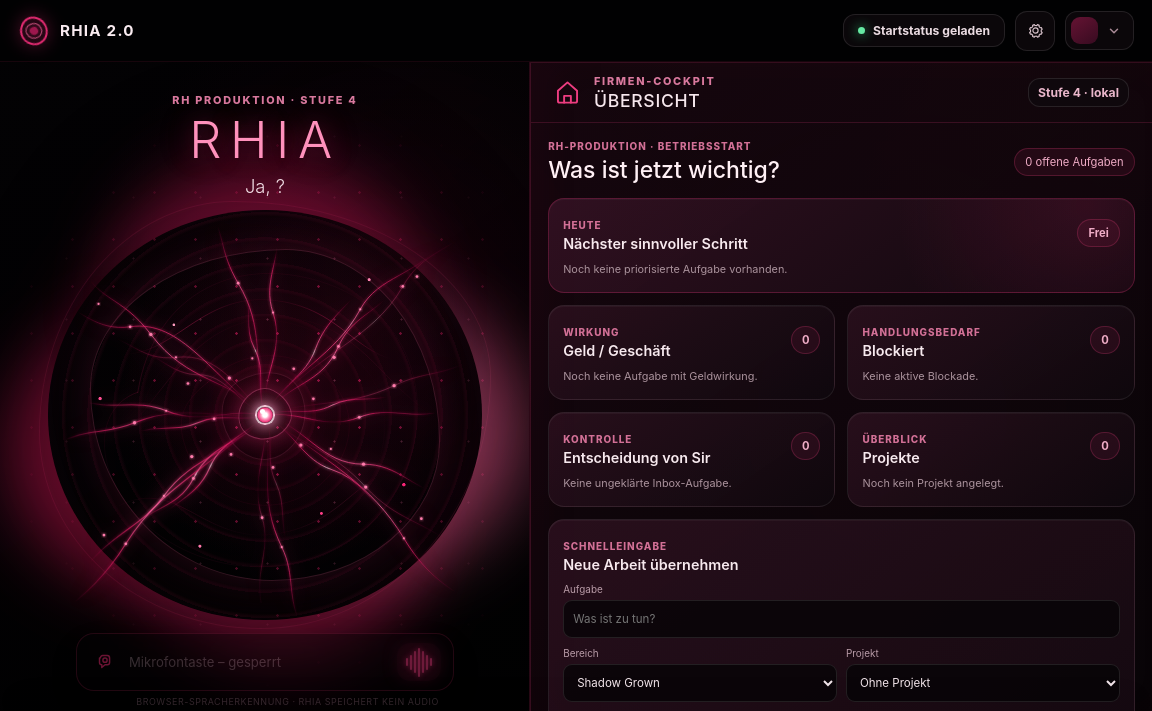
Test: RHIA stage 4 shell › takes over a confirmed quick task into the local company cockpit
The image size is (1152, 711).
Expected: the heading "Was ist jetzt wichtig?" is shown, [548,156,780,184]
Step 1. Type "Angebot vorbereiten" into the field labelled "Aufgabe" → (842, 619), box [563,600,1120,638]
(page scrolled)
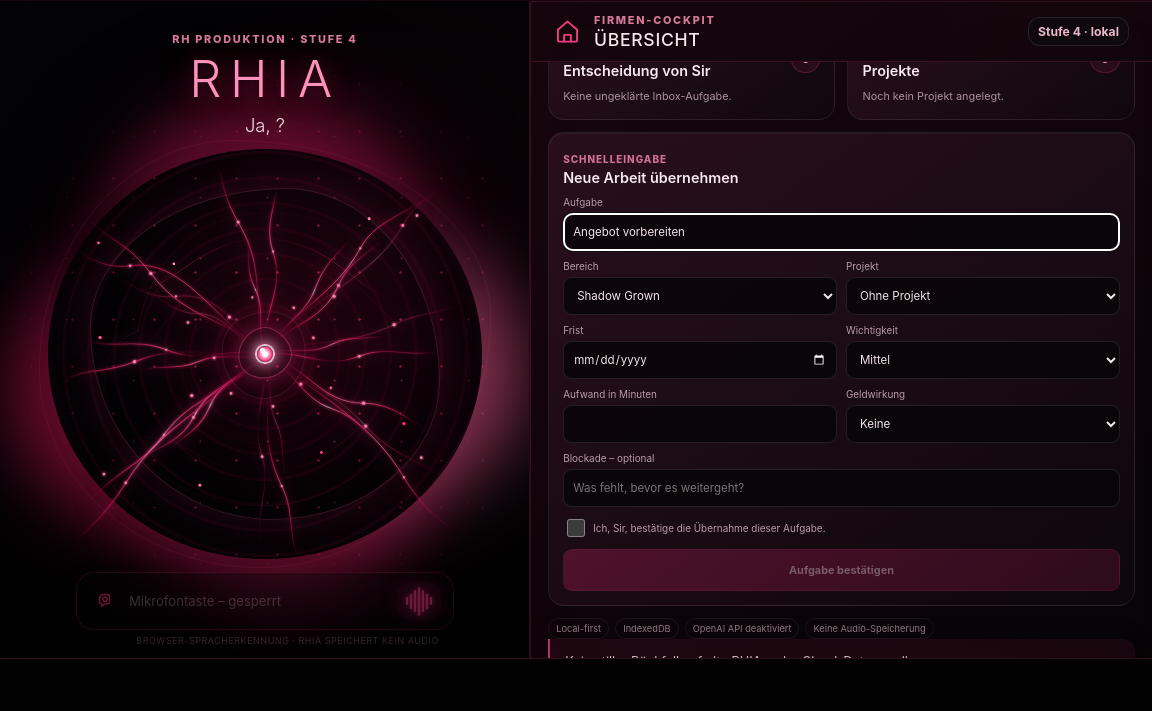
Step 2. Select "Hoch" in the dropdown labelled "Wichtigkeit" → (983, 360), box [846,341,1120,379]
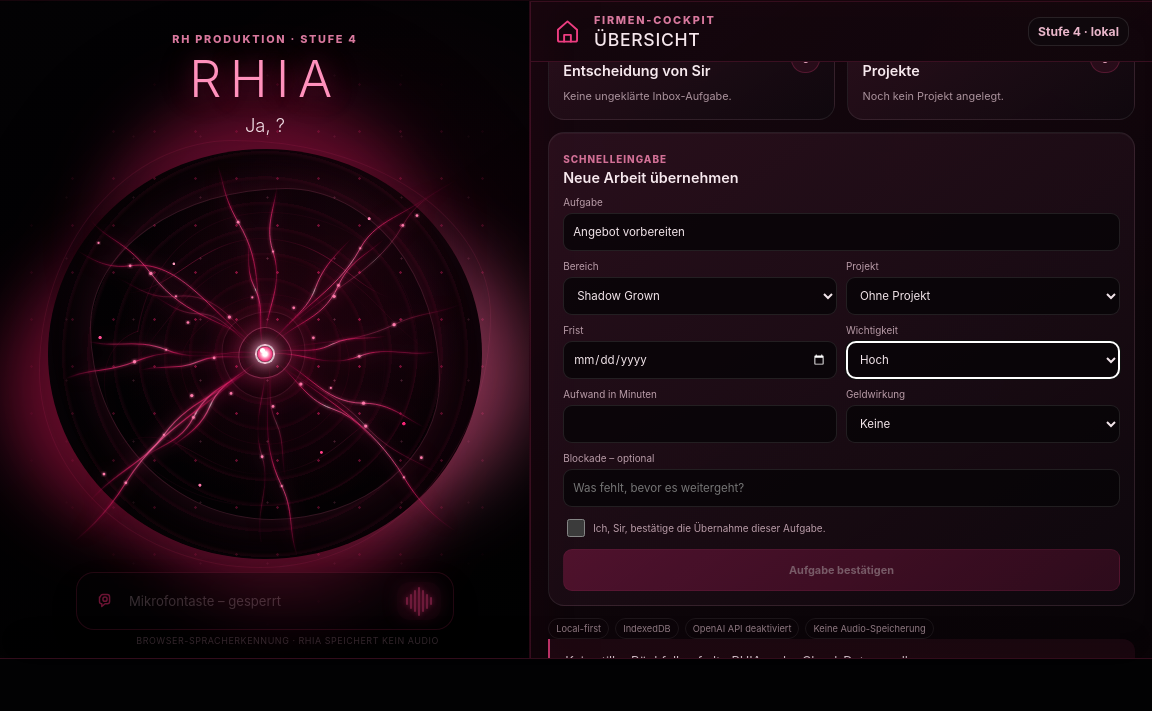
Step 3. Type "Lieferantenpreise fehlen" into the field labelled "Blockade – optional" → (842, 488), box [563,469,1120,507]
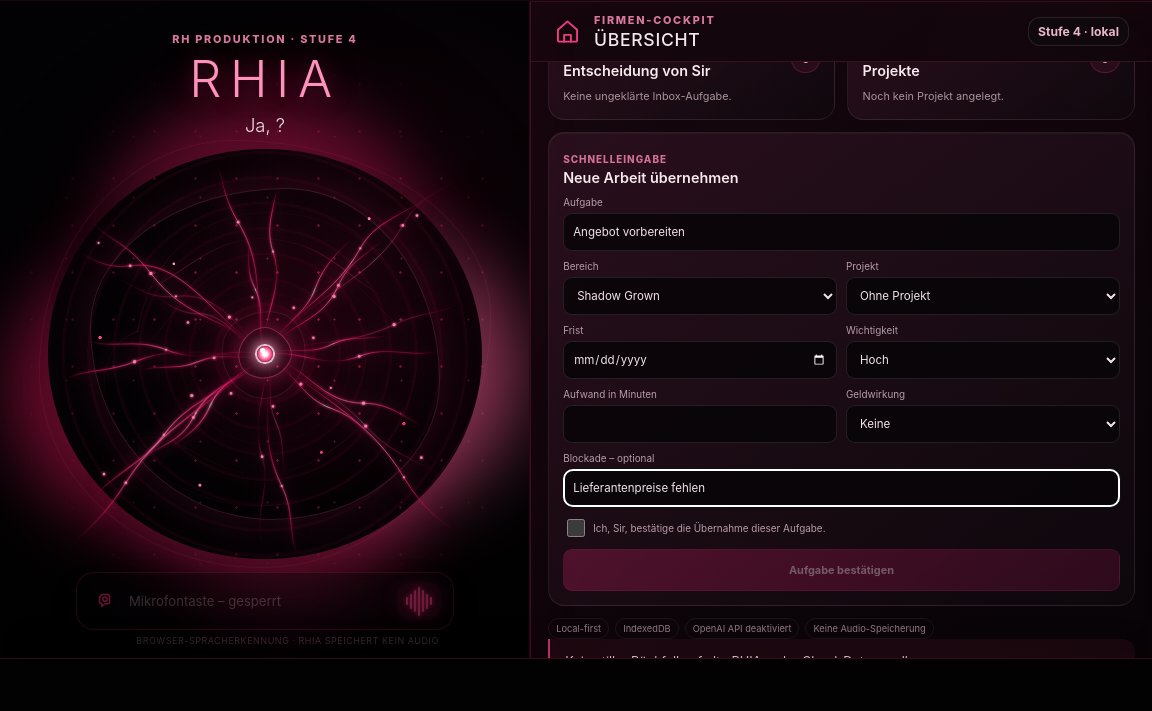
Step 4. Click the checkbox labelled "Ich, Sir, bestätige die Übernahme dieser Aufgabe." → click(576, 528), box [567,519,585,537]
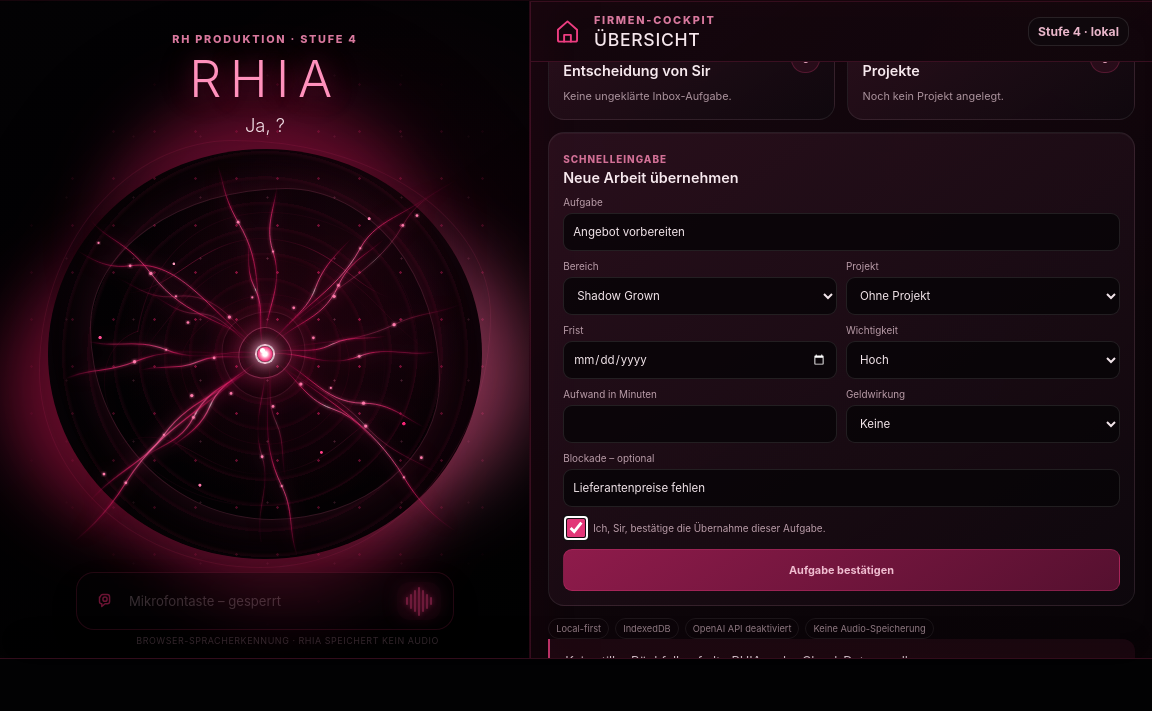
Step 5. Click the button "Aufgabe bestätigen" → click(842, 570), box [563,549,1120,591]
(page scrolled)
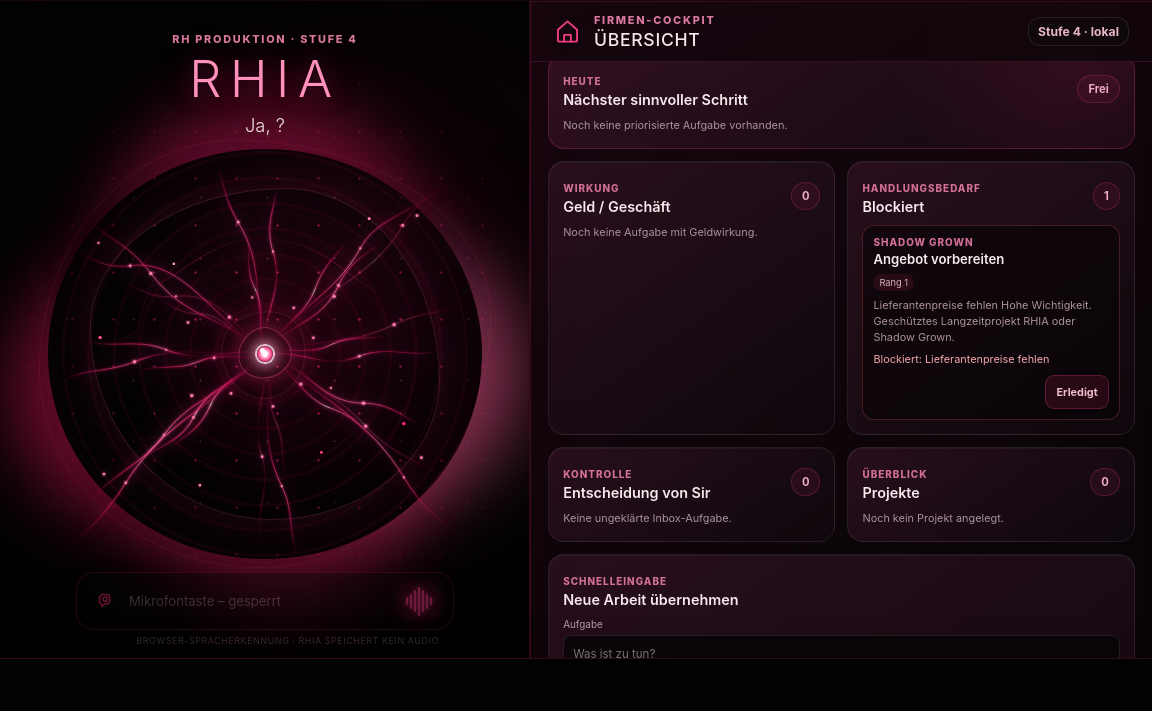
Expected: the heading "Blockiert" is shown, [862,198,924,215]
Expected: the text "Blockiert: Lieferantenpreise fehlen" is shown, [874,352,1050,366]
